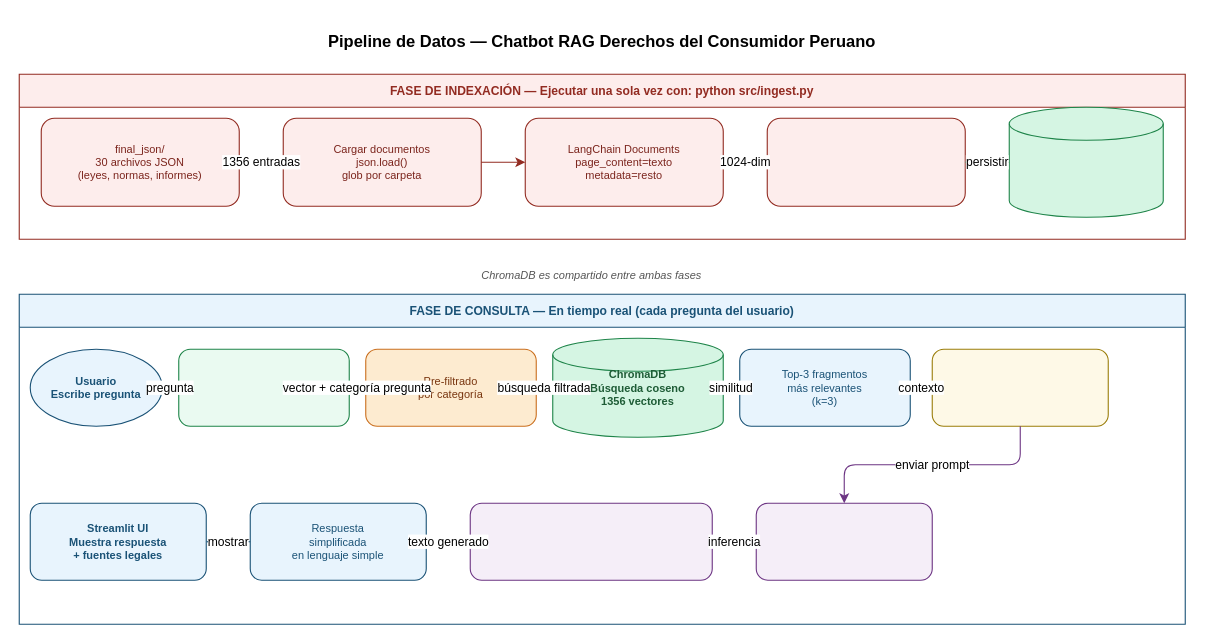
The diagram is 1205 pixels wide and 644 high, and some of its shapes have lost their labels. Each missing label, with the centre of its shape:
"bge-m3 Embedding de la consulta" belongs at pixel 263 387.
"bge-m3 Generar embeddings (GPU · CUDA)" belongs at pixel 865 161.
"ChromaDB Almacenar vectores chroma_db_bgem3_exp5/" belongs at pixel 1085 161.
"Construir Prompt contexto legal + pregunta" belongs at pixel 1019 387.
"Ollama Servidor LLM local" belongs at pixel 843 541.
"qwen2.5:14b Generar respuesta RTX 4080 · CUDA (~10 GB VRAM)" belongs at pixel 590 541.
